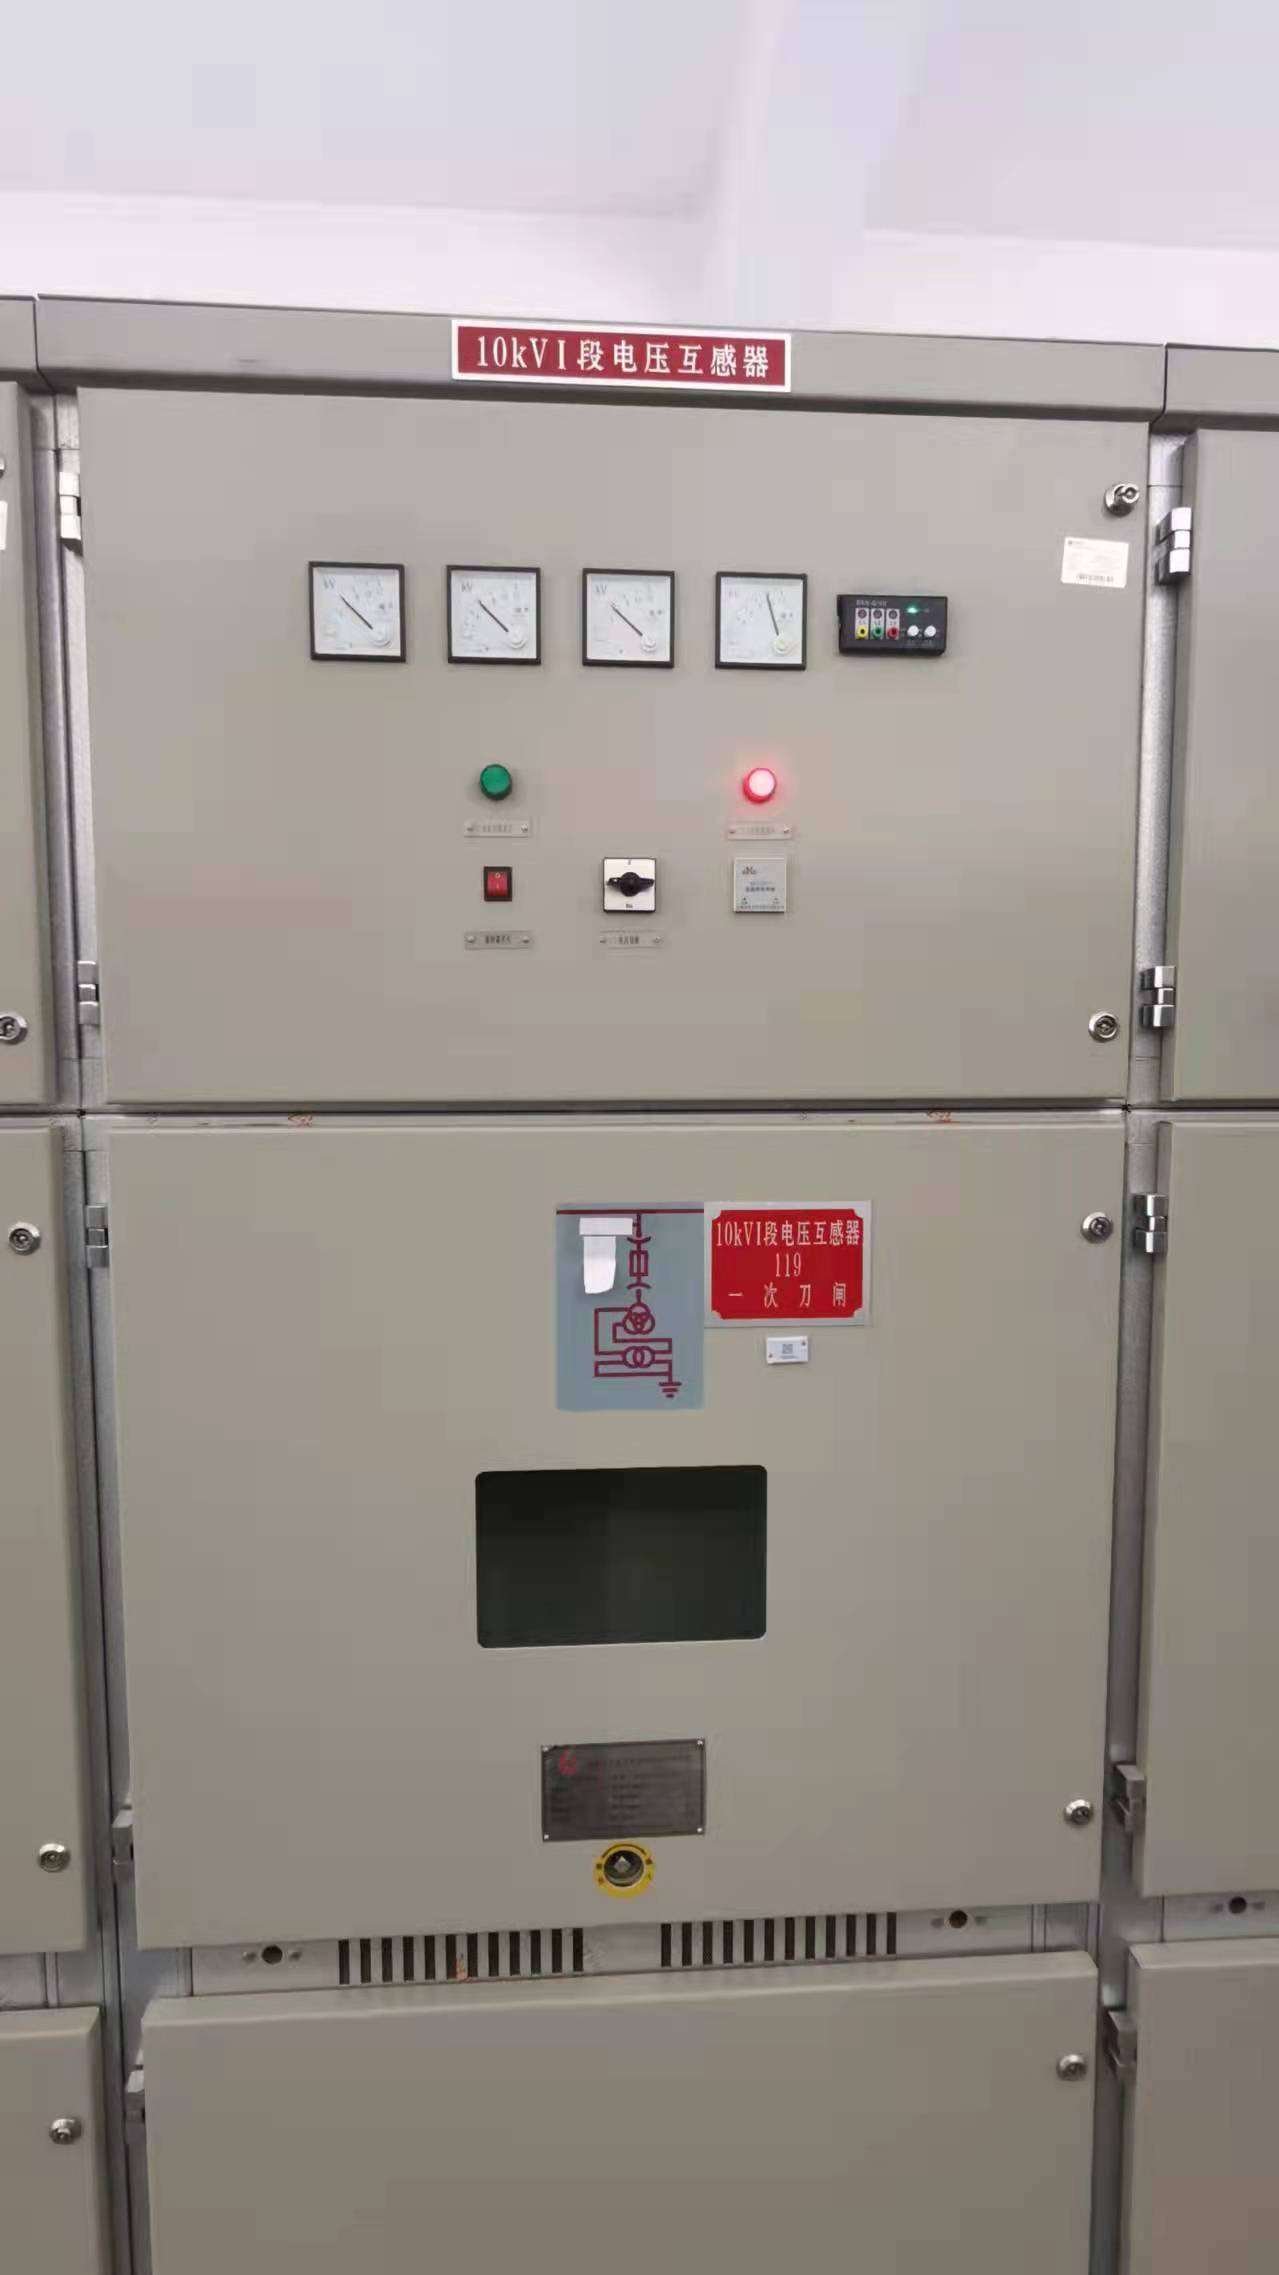pointer: (447, 562, 545, 667), (306, 559, 406, 659), (714, 570, 811, 673), (582, 562, 678, 667)
